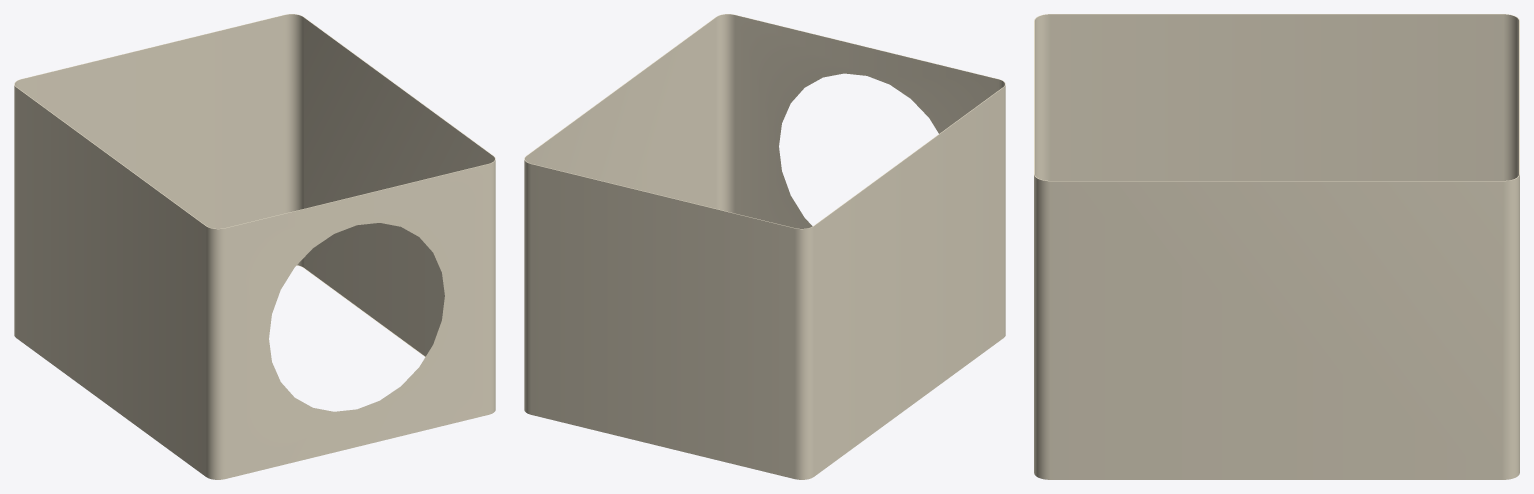
Rendered from original-33.obj.
The picture shows the model from 3 angles, left to right: view 1: azimuth 30°, elevation 25°; view 2: azimuth 150°, elevation 25°; view 3: azimuth 270°, elevation 25°; orthographic projection. The views are drawn at different scales.
Parts seen in each view (by area): view 1: #ID161; view 2: #ID161; view 3: #ID161.
Part boxes in pixels (box(x1,y1,x2,y2)): #ID161: box(14, 14, 495, 479); #ID161: box(524, 14, 1005, 479); #ID161: box(1034, 14, 1519, 479).
Size of the model in its own units: 0.9567 by 0.7964 by 1.17.
